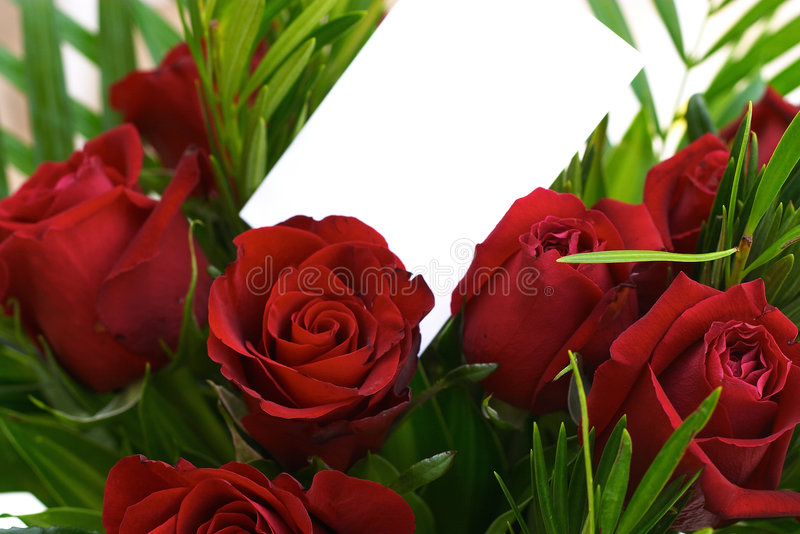RedRose: (209, 200, 442, 463), (455, 138, 642, 450), (4, 133, 212, 406), (607, 257, 800, 534)
